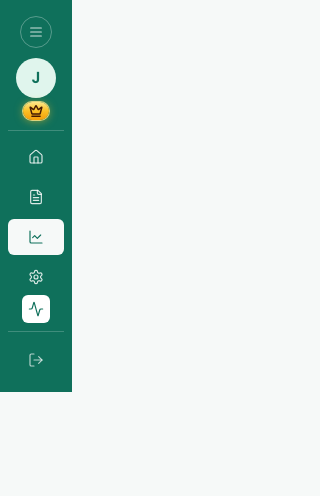
Test: SidebarShell — menu minimizável no desktop › expande de volta e grava o cookie como false
This screenshot has width=320, height=496.
expect the text "Exames enviados" is not shown: met
What coordinates should you click on to do the following:
click the button named "Expandir menu"
I would click on:
 (36, 32)
Its box is [20, 16, 52, 48].
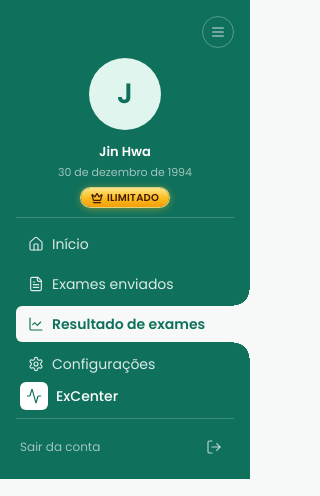
expect the text "Exames enviados" is shown: met, box [52, 274, 174, 294]
